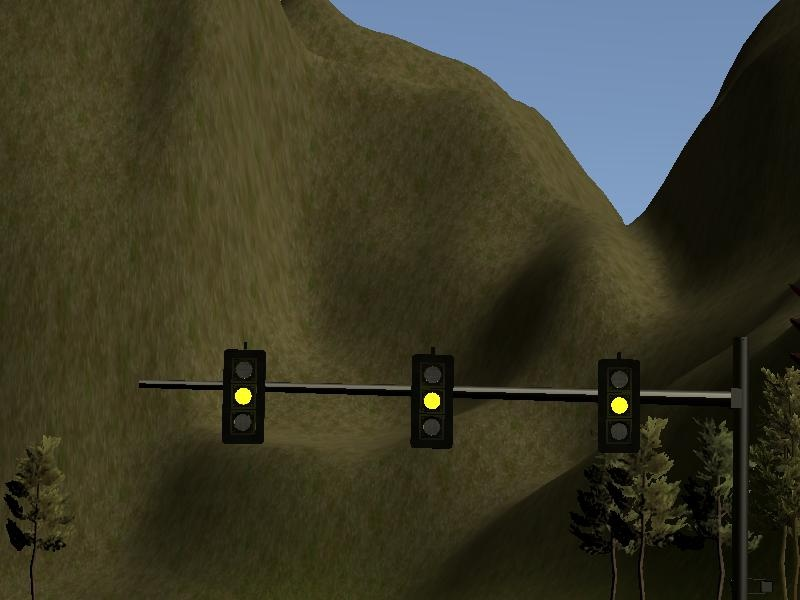yellow: (215, 342, 270, 450), (405, 345, 458, 454), (591, 352, 645, 456)
